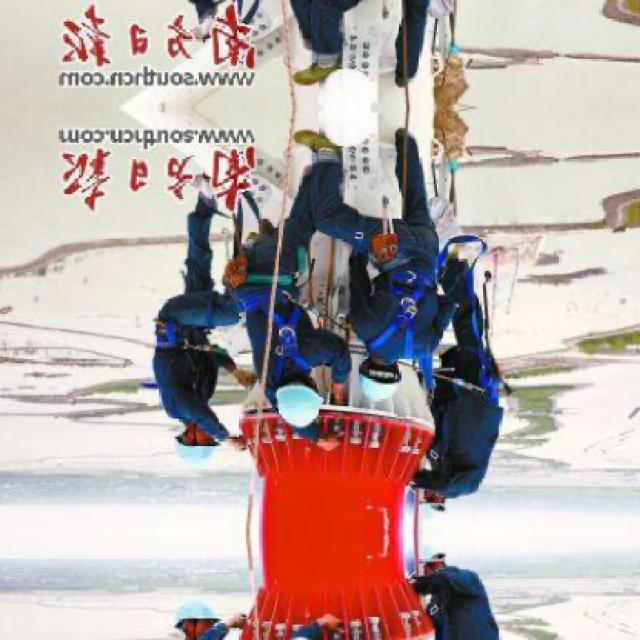con casco: (238, 317, 339, 428), (382, 443, 497, 524), (337, 302, 418, 405), (151, 382, 243, 470)
